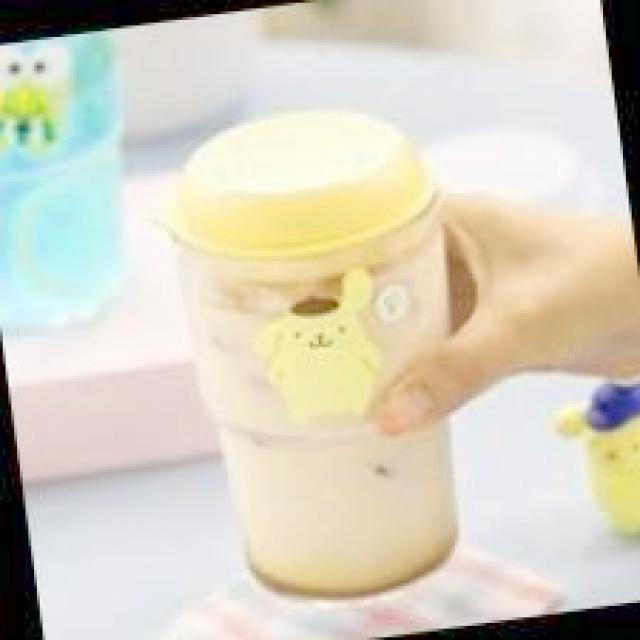bottle: (151, 92, 489, 616)
